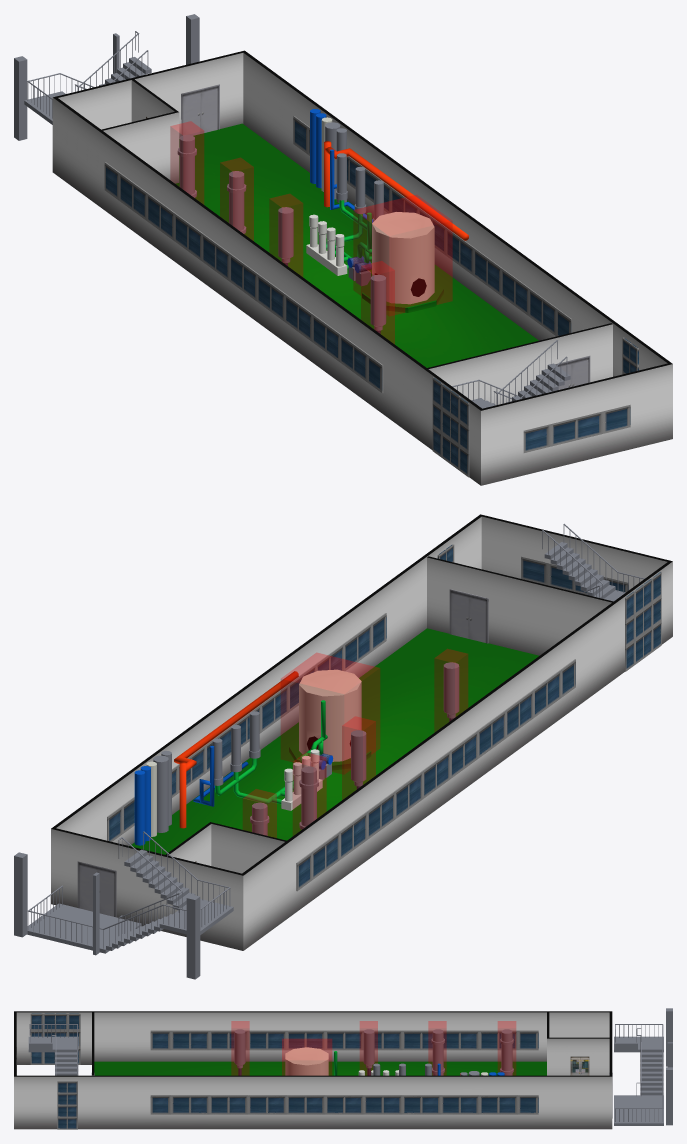
The model's file is soulbrain_T5-1-4F.glb.
3 renders of one model, top to bottom at view 1: azimuth 30°, elevation 25°; view 2: azimuth 150°, elevation 25°; view 3: azimuth 270°, elevation 25°, orthographic. The views are drawn at different scales.
Parts seen in each view (by area): view 1: T5-1-4F (1), Rectangle1020, T5-1-4F, equipment-T5-1-4F-005, equipment-T5-1-4F-002, equipment-T5-1-4F-001, equipment-T5-1-4F-004, equipment-T5-1-4F-003; view 2: T5-1-4F (1), Rectangle1020, T5-1-4F, equipment-T5-1-4F-005, equipment-T5-1-4F-004, equipment-T5-1-4F-003, equipment-T5-1-4F-002, equipment-T5-1-4F-001, Line863; view 3: T5-1-4F (1), Rectangle1020, T5-1-4F, equipment-T5-1-4F-005, equipment-T5-1-4F-004, equipment-T5-1-4F-001, equipment-T5-1-4F-002, equipment-T5-1-4F-003.
Part boxes in pixels (bbox=[...]): T5-1-4F (1): bbox=[14, 14, 672, 485]; Rectangle1020: bbox=[175, 123, 538, 367]; T5-1-4F: bbox=[177, 109, 468, 333]; equipment-T5-1-4F-005: bbox=[353, 195, 452, 315]; equipment-T5-1-4F-002: bbox=[220, 158, 253, 240]; equipment-T5-1-4F-001: bbox=[170, 121, 203, 204]; equipment-T5-1-4F-004: bbox=[361, 261, 394, 343]; equipment-T5-1-4F-003: bbox=[269, 194, 302, 276]; T5-1-4F (1): bbox=[14, 514, 672, 979]; Rectangle1020: bbox=[129, 628, 539, 854]; T5-1-4F: bbox=[134, 662, 459, 845]; equipment-T5-1-4F-005: bbox=[281, 653, 379, 773]; equipment-T5-1-4F-004: bbox=[434, 649, 467, 731]; equipment-T5-1-4F-003: bbox=[342, 716, 375, 799]; equipment-T5-1-4F-002: bbox=[293, 752, 326, 835]; equipment-T5-1-4F-001: bbox=[243, 789, 276, 837]; Line863: bbox=[215, 758, 293, 804]; T5-1-4F (1): bbox=[14, 1008, 672, 1129]; Rectangle1020: bbox=[94, 1061, 546, 1075]; T5-1-4F: bbox=[234, 1029, 513, 1075]; equipment-T5-1-4F-005: bbox=[282, 1039, 331, 1075]; equipment-T5-1-4F-004: bbox=[231, 1021, 249, 1075]; equipment-T5-1-4F-001: bbox=[498, 1021, 515, 1075]; equipment-T5-1-4F-002: bbox=[428, 1021, 446, 1075]; equipment-T5-1-4F-003: bbox=[360, 1021, 377, 1075].
Size of the model in its own units: 9.07 by 4.53 by 38.2.
Materials: 20 (12 with a texture image).
